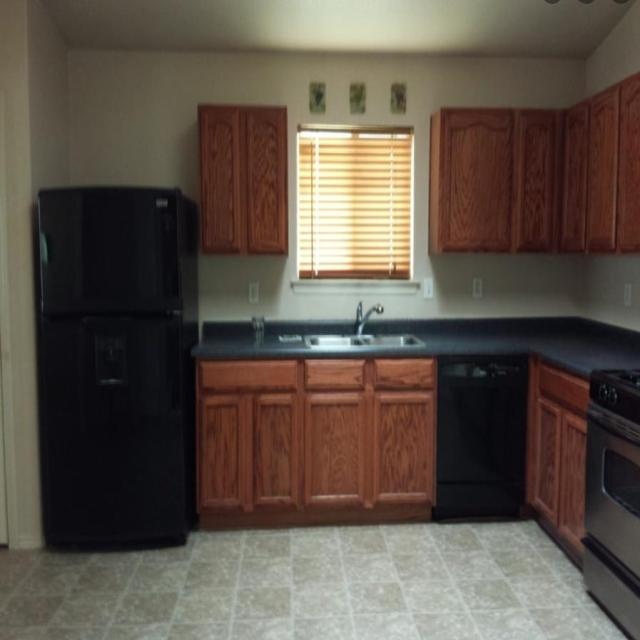dishwasher: (436, 352, 526, 524)
